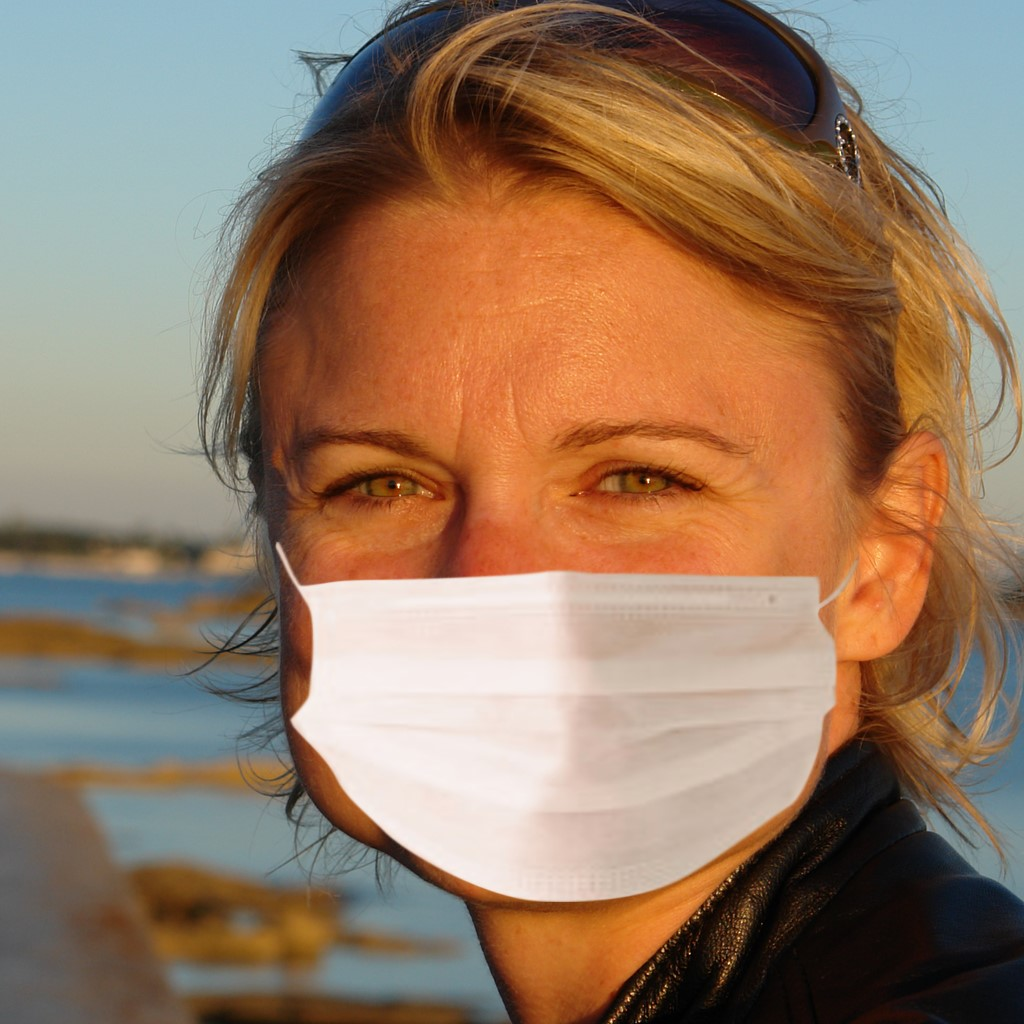con_mascara: (279, 116, 917, 882)
